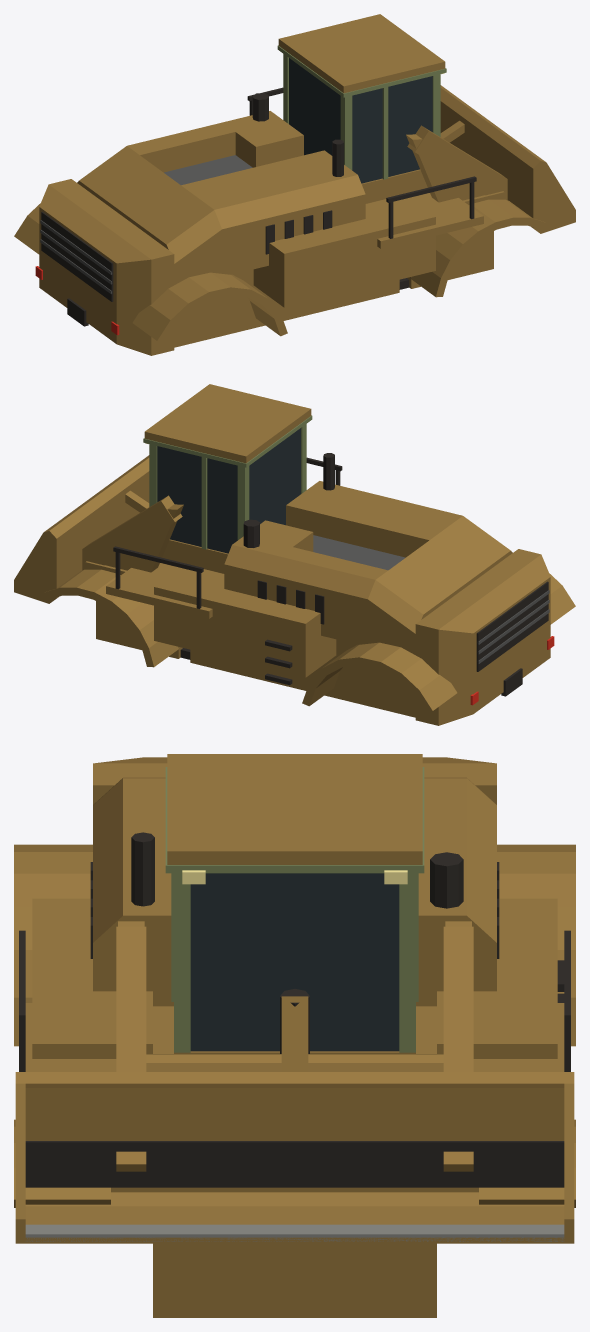
File: base_loader.glb
3 renders of one model, top to bottom at view 1: azimuth 30°, elevation 25°; view 2: azimuth 150°, elevation 25°; view 3: azimuth 270°, elevation 25°, orthographic. The views are drawn at different scales.
Parts seen in each view (by area): view 1: base_loader; view 2: base_loader; view 3: base_loader.
Boxes of the visible parts, x1,y1,x2,y2 form: base_loader: [14, 14, 575, 355]; base_loader: [14, 384, 575, 725]; base_loader: [14, 754, 575, 1317].
Bounding box in the file's own units: 5.83 × 2.81 × 3.37.
